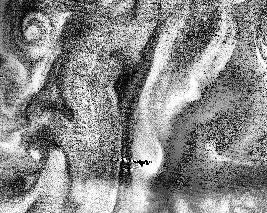CE: (18, 14, 53, 47)
